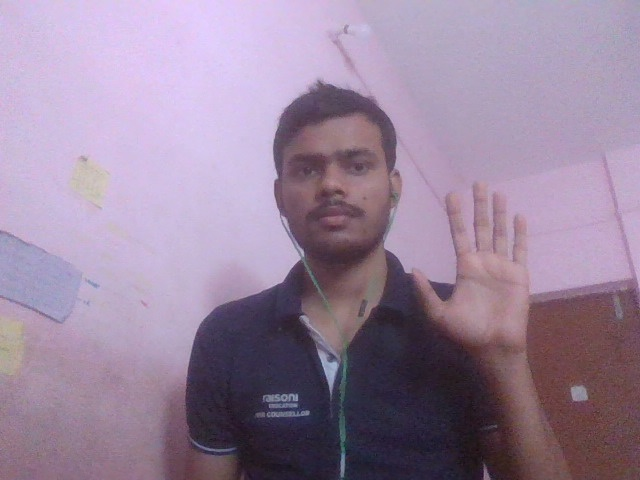Hello: (367, 171, 577, 395)
